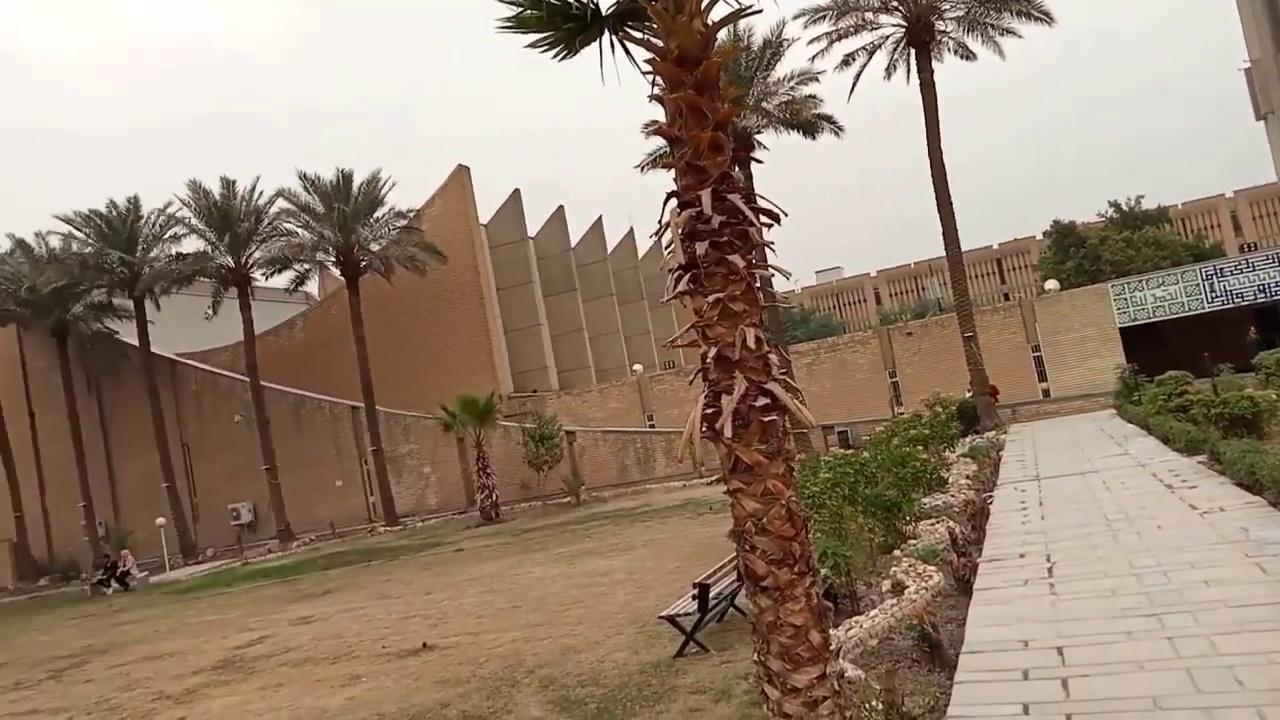person: (113, 549, 139, 592), (91, 553, 117, 593)
tree: (491, 0, 850, 718), (790, 0, 1056, 432), (633, 14, 845, 479), (795, 391, 1008, 718), (270, 165, 448, 525), (168, 172, 303, 547), (0, 227, 134, 574), (0, 230, 57, 576), (1033, 192, 1225, 291), (437, 388, 506, 521), (517, 409, 565, 492)
